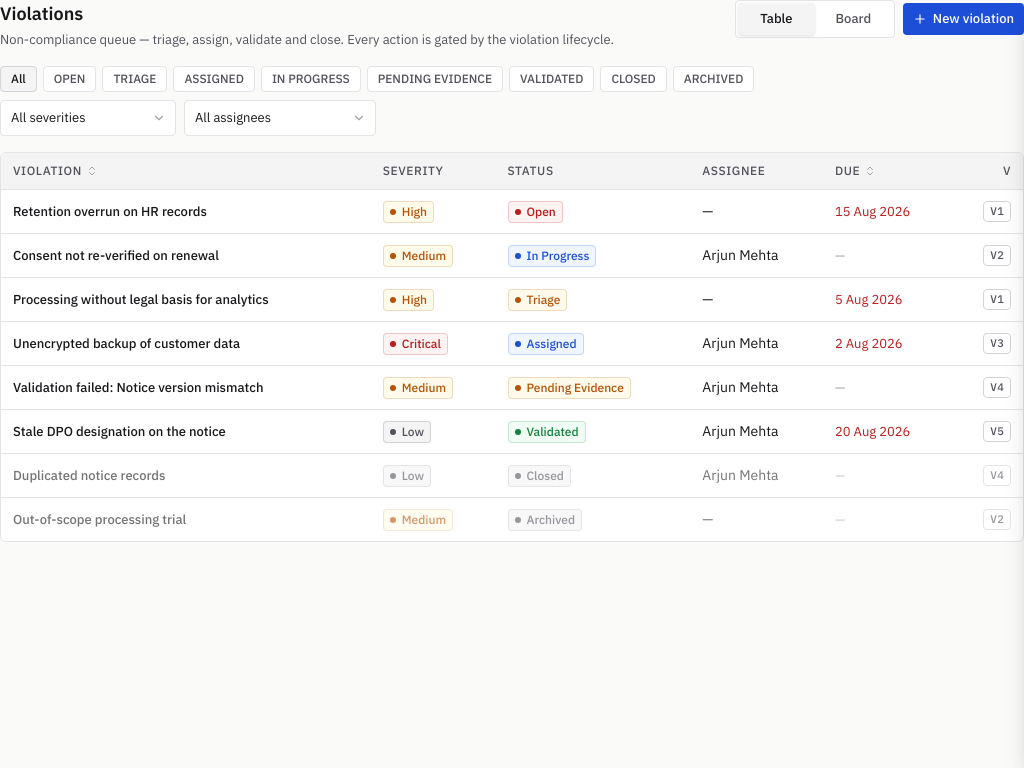
Test case: ViolationsView (§9.8) › opens the detail drawer with the stepper and status-gated actions (OPEN)
The image size is (1024, 768).
Click the text "Retention overrun on HR records".
click(110, 211)  # box left=13, top=203, right=207, bottom=220
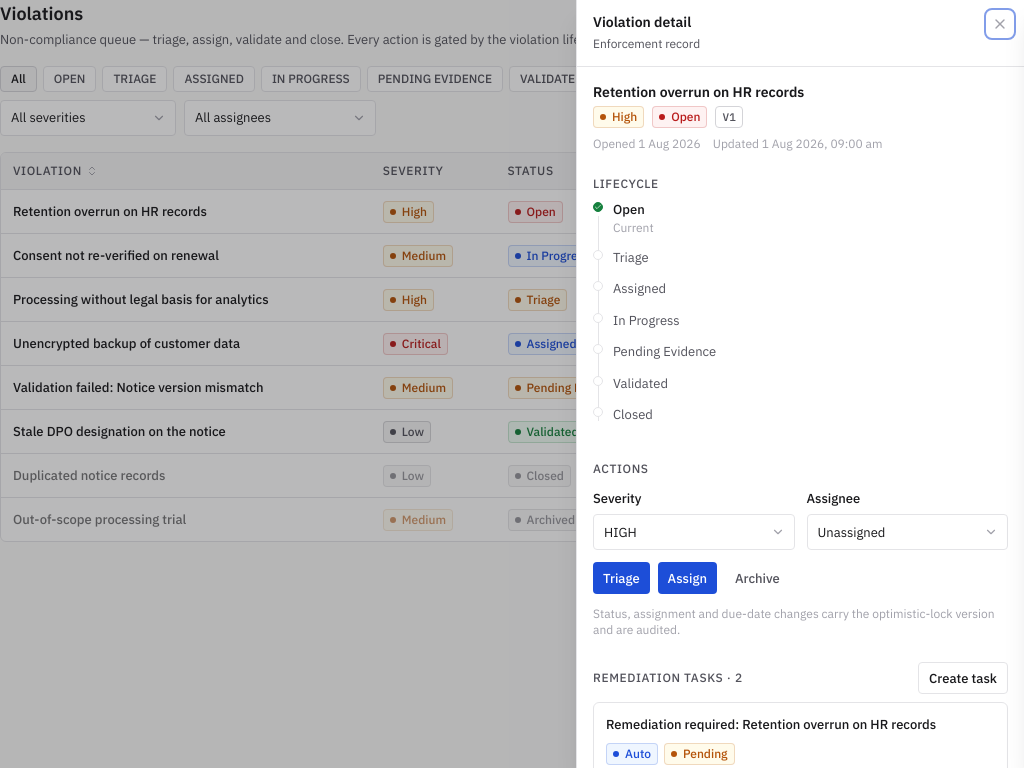
Expected: the text "Current" is shown, left=613, top=220, right=654, bottom=236
Expected: the button "Triage" is shown, left=593, top=562, right=650, bottom=594
Expected: the dropdown labelled "Assignee" is shown, left=806, top=514, right=1008, bottom=550
